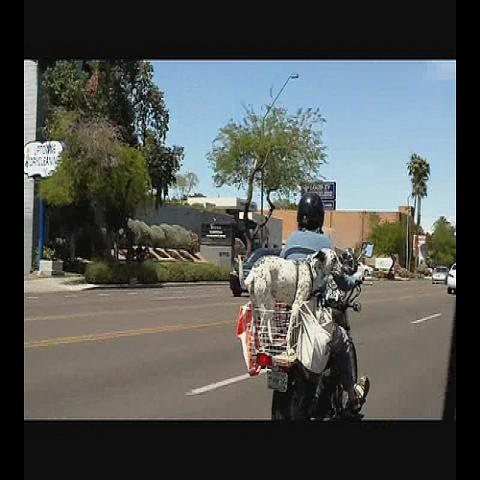car: (230, 248, 282, 296), (432, 266, 450, 287), (446, 263, 456, 295), (357, 262, 375, 276)
motorcycle: (271, 241, 374, 424), (324, 277, 376, 384)
